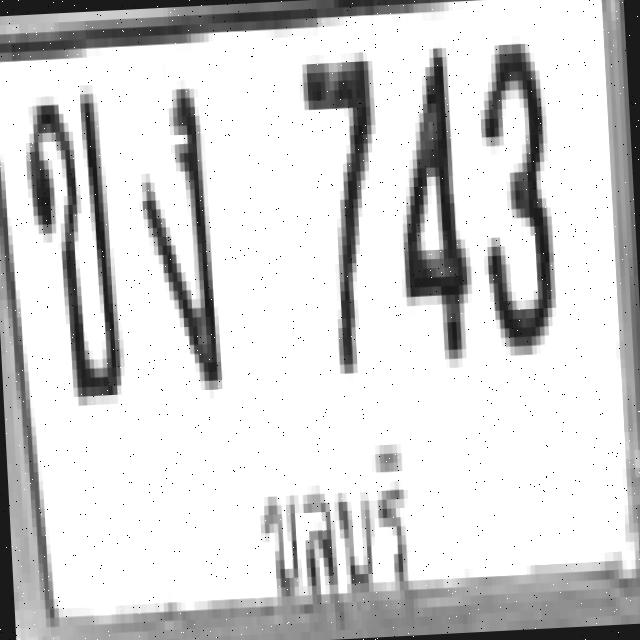11KhorKhai: (18, 84, 122, 399)
16NgorNgu: (132, 79, 218, 384)
3: (472, 34, 554, 348)
4: (388, 38, 471, 352)
7: (297, 48, 384, 371)
Chonburi: (240, 429, 432, 623)
